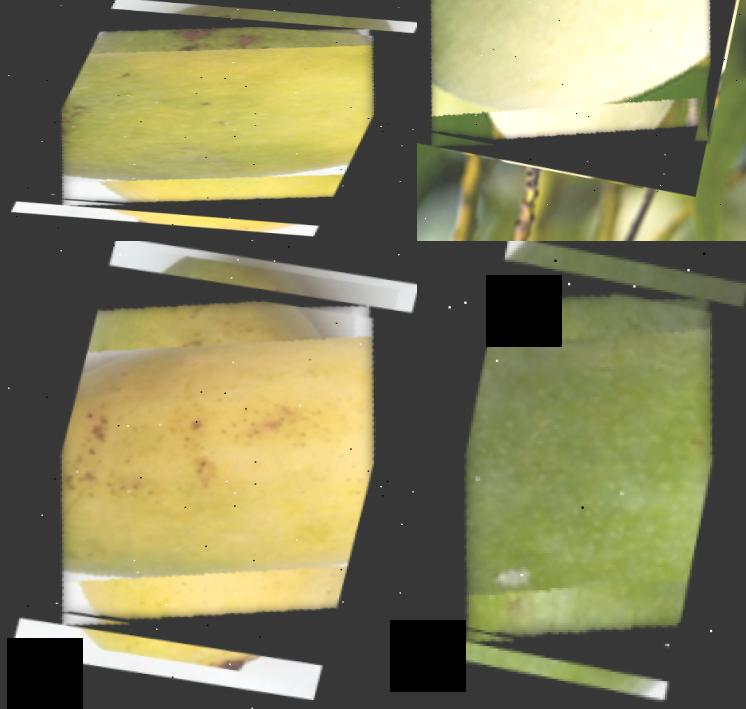PartiallyRipe: (14, 268, 417, 663), (9, 9, 417, 225)
Unripe: (424, 262, 746, 680), (417, 0, 746, 192)
